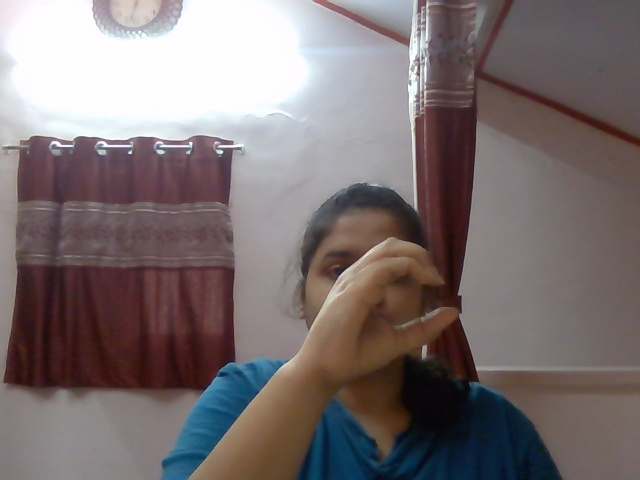c: (317, 230, 472, 380)
